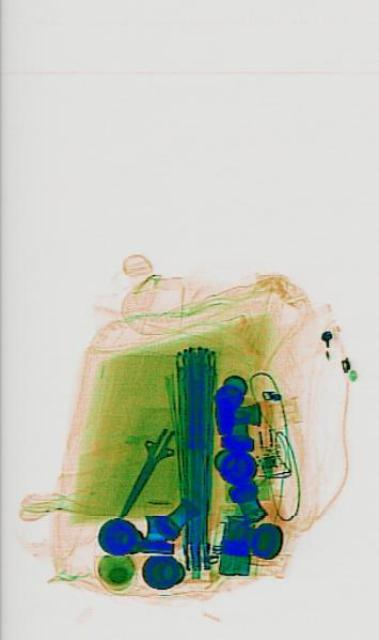Knife: (111, 410, 181, 530)
